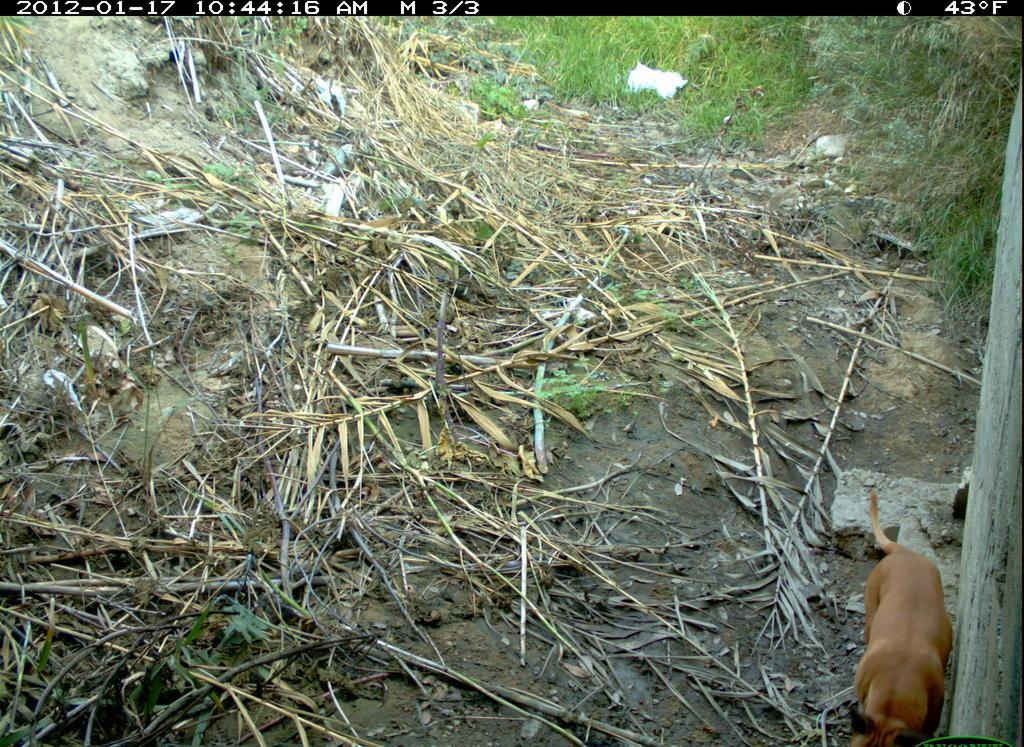dog: (841, 485, 959, 747)
